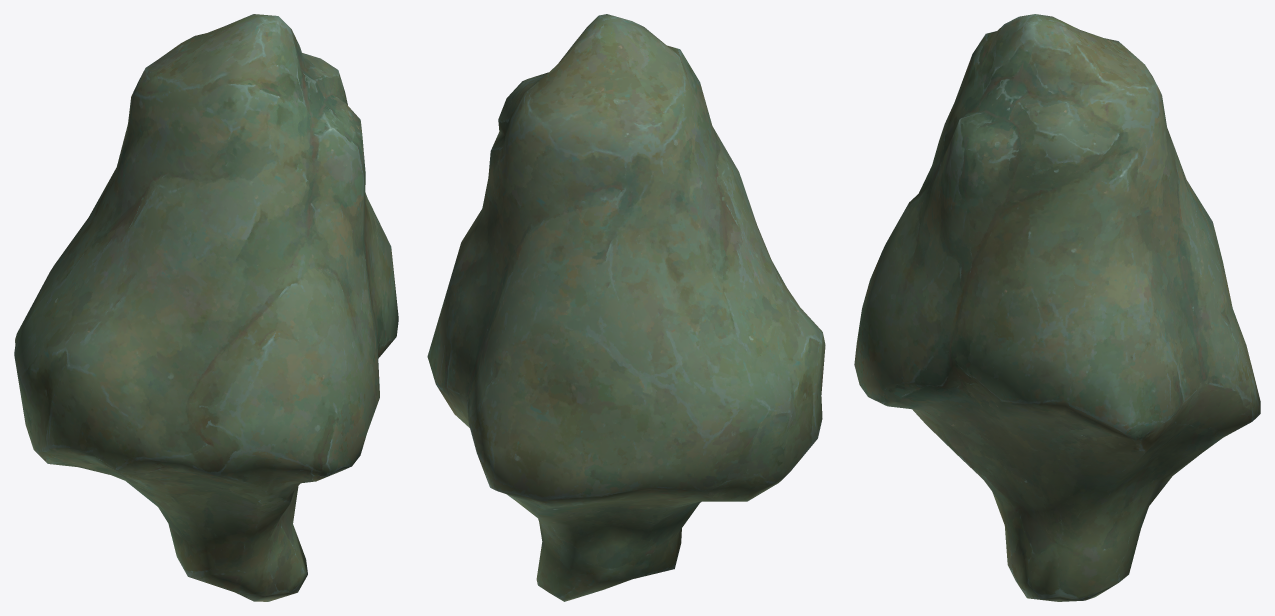
Rendered from Area_Xm_Rock_DCL_Full_L_06_StoneTint_Lod0.fbx.
3 views of the same model, side by side, from view 1: azimuth 30°, elevation 25°; view 2: azimuth 150°, elevation 25°; view 3: azimuth 270°, elevation 25° (orthographic). The views are drawn at different scales.
Parts seen in each view (by area): view 1: Area_Xm_Rock_DCL_Full_L_06_StoneTint_Lod0; view 2: Area_Xm_Rock_DCL_Full_L_06_StoneTint_Lod0; view 3: Area_Xm_Rock_DCL_Full_L_06_StoneTint_Lod0.
Part boxes in pixels (bbox=[...]): Area_Xm_Rock_DCL_Full_L_06_StoneTint_Lod0: bbox=[14, 14, 398, 601]; Area_Xm_Rock_DCL_Full_L_06_StoneTint_Lod0: bbox=[427, 14, 825, 601]; Area_Xm_Rock_DCL_Full_L_06_StoneTint_Lod0: bbox=[854, 14, 1260, 601].
Bounding box in the file's own units: 7.4 × 11.58 × 7.38.
Materials: 1 (1 with a texture image).
